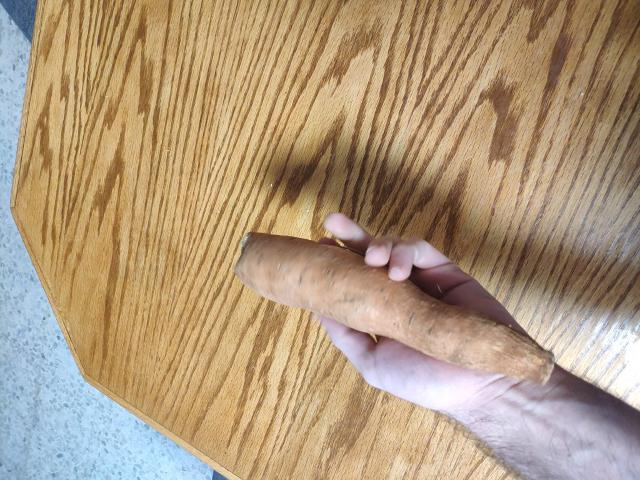sweet_potato: (234, 225, 564, 391)
